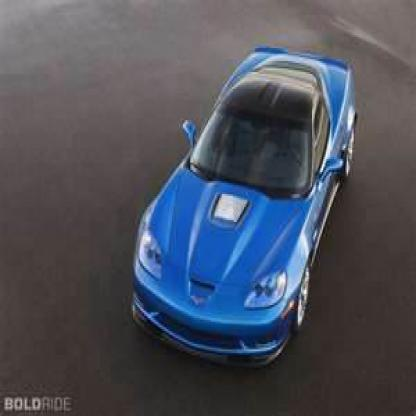Vehicle: (130, 43, 360, 379)
